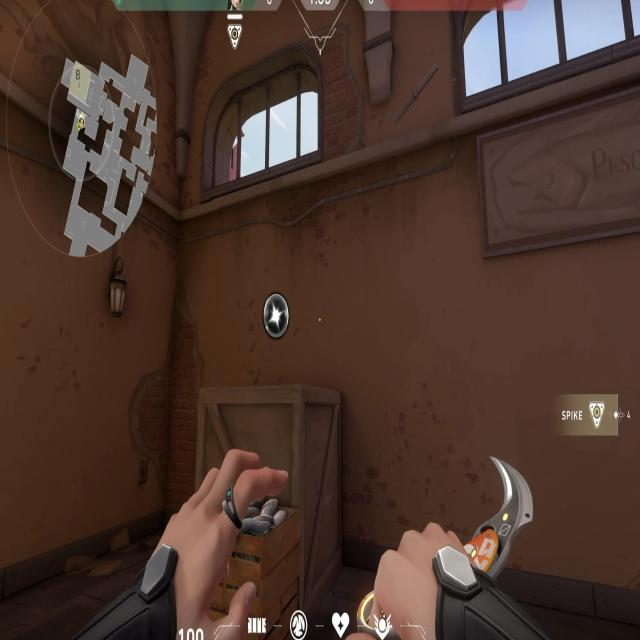B_Main_Wallbang: (170, 272, 355, 618)
Throwables: (442, 0, 640, 142), (198, 59, 331, 206)
